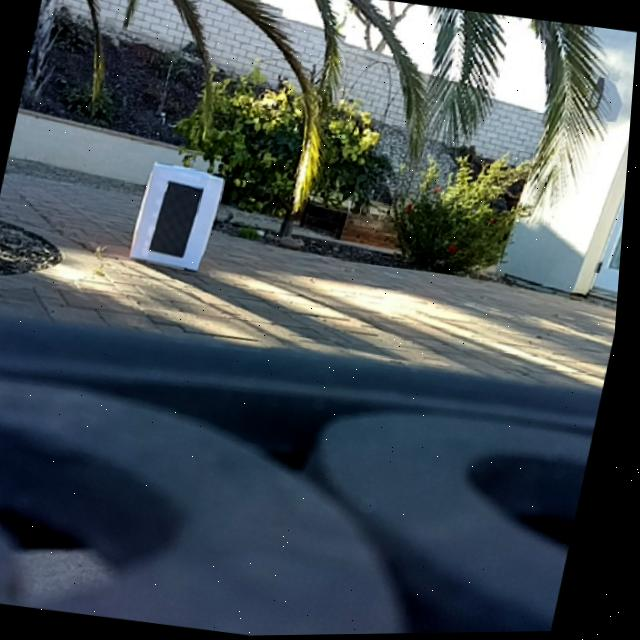led: (154, 182, 205, 261)
